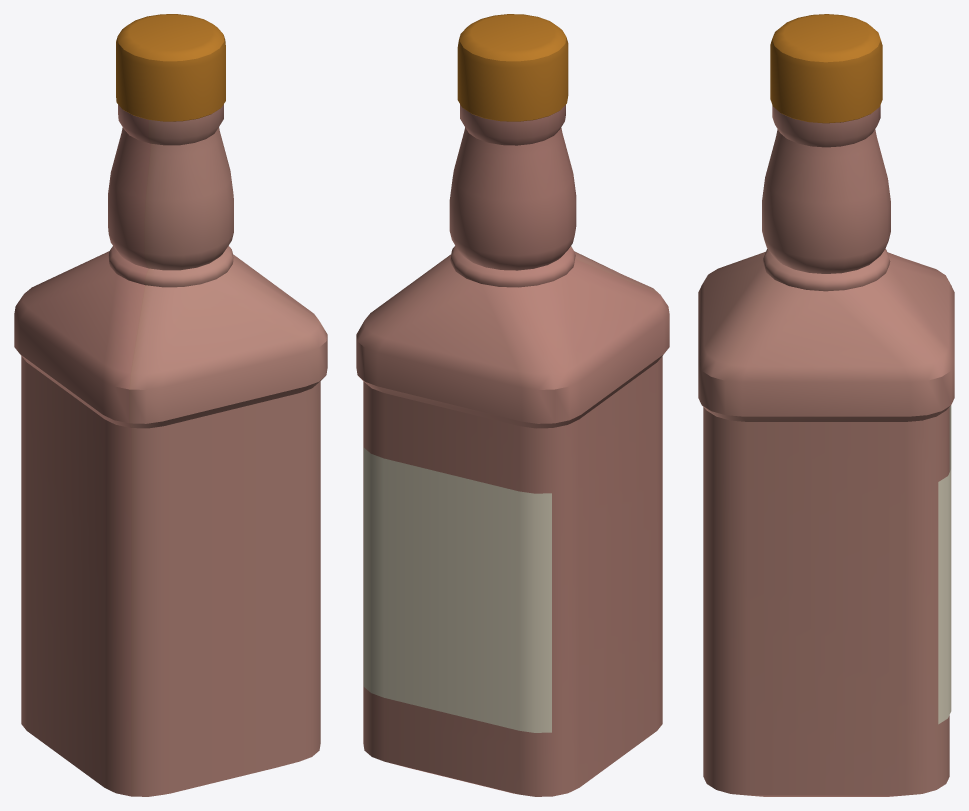
File: M_Bottle_2.fbx
The picture shows the model from 3 angles, left to right: view 1: azimuth 30°, elevation 25°; view 2: azimuth 150°, elevation 25°; view 3: azimuth 270°, elevation 25°; orthographic projection.
Visible parts, largest first — view 1: Bottle_2; view 2: Bottle_2; view 3: Bottle_2.
Boxes of the visible parts, x1,y1,x2,y2 form: Bottle_2: (14,14,327,796); Bottle_2: (356,14,669,796); Bottle_2: (698,14,954,796).
Size of the model in its own units: 12.25 by 37.91 by 12.25.
